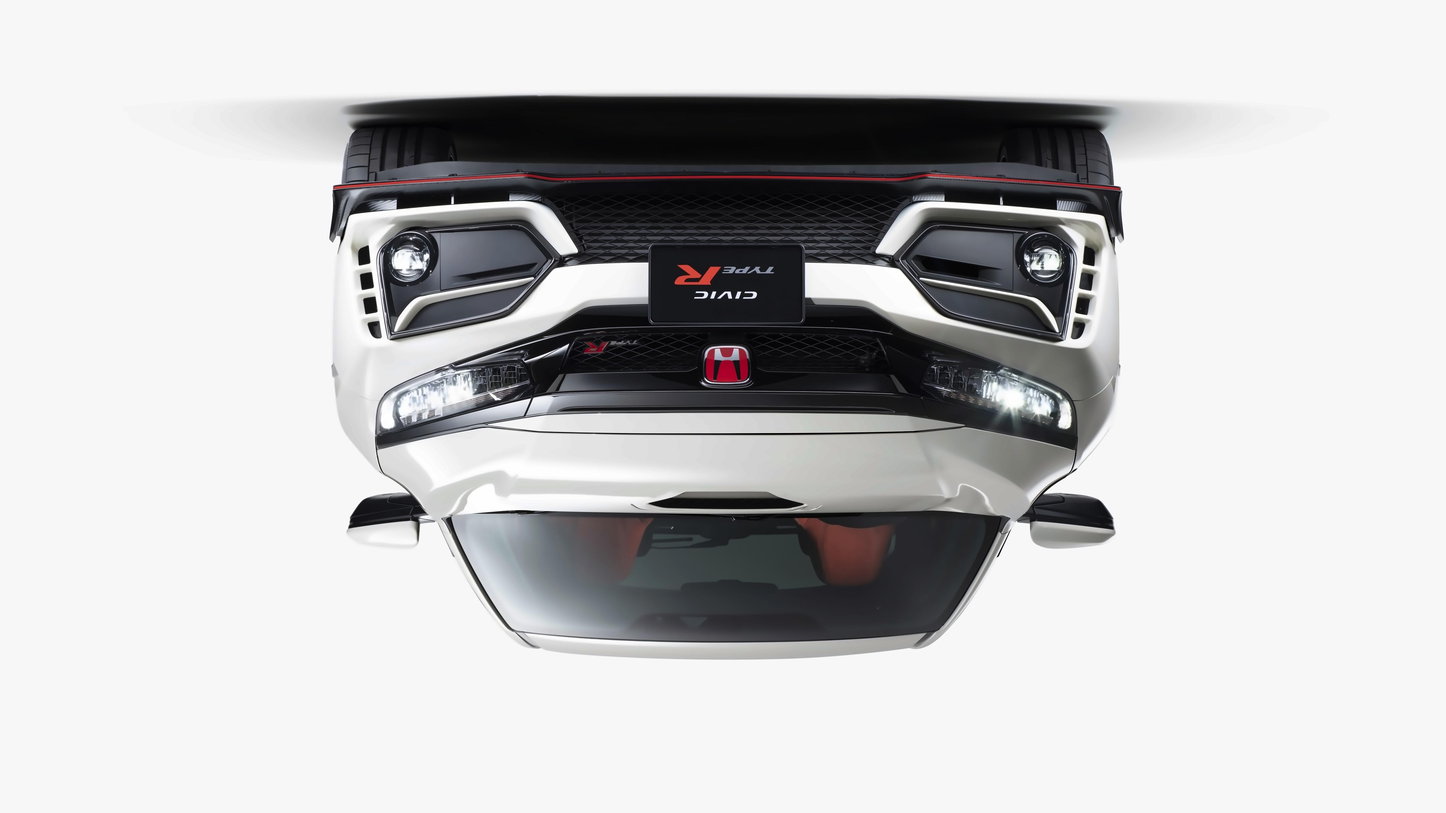Car hood: (372, 397, 1093, 520)
Front bumper: (319, 173, 1130, 387)
Headlight - -L-: (372, 325, 543, 452)
Headlight - -R-: (921, 333, 1086, 463)
Side mirror - -L-: (331, 481, 435, 559)
Side mirror - -R-: (1017, 481, 1127, 562)
